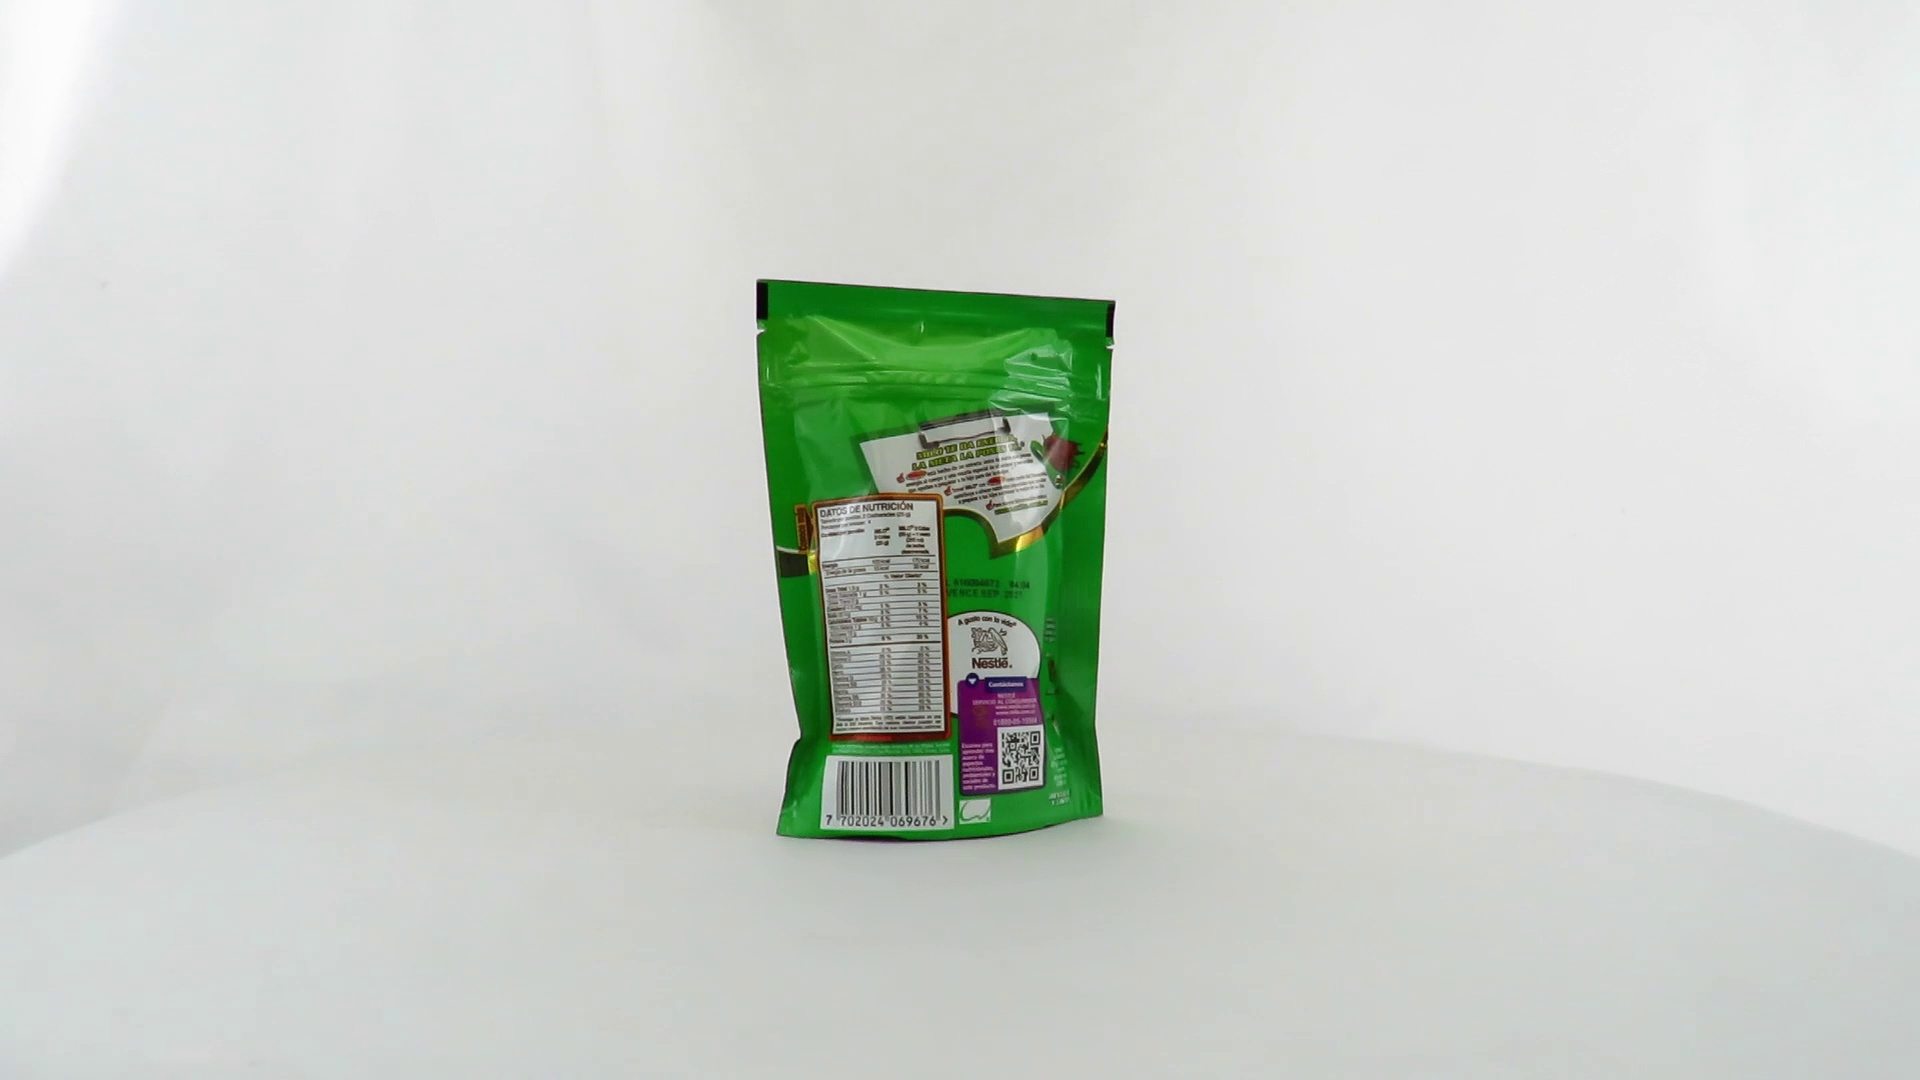COL0170203DYP10000: (752, 274, 1122, 849)
